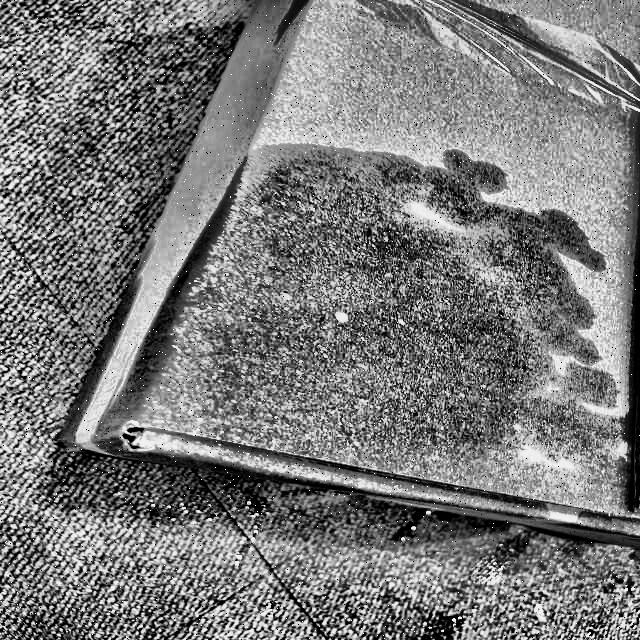box: (41, 0, 640, 555)
wet: (56, 137, 620, 517)
